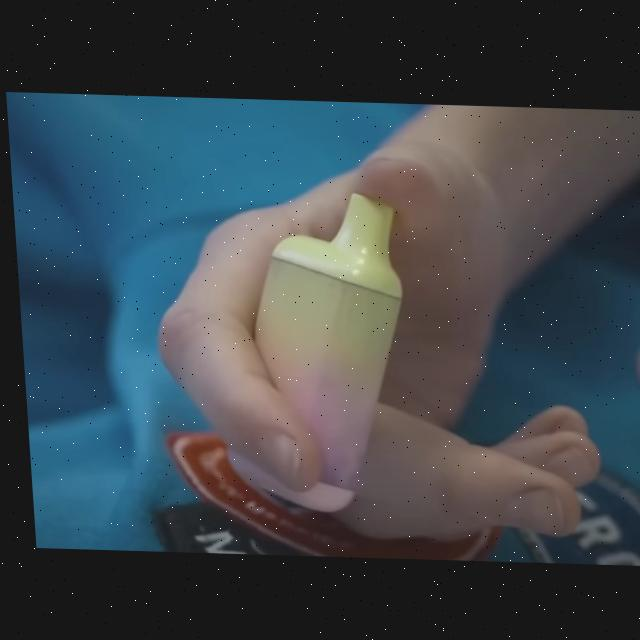vape: (206, 187, 412, 514)
